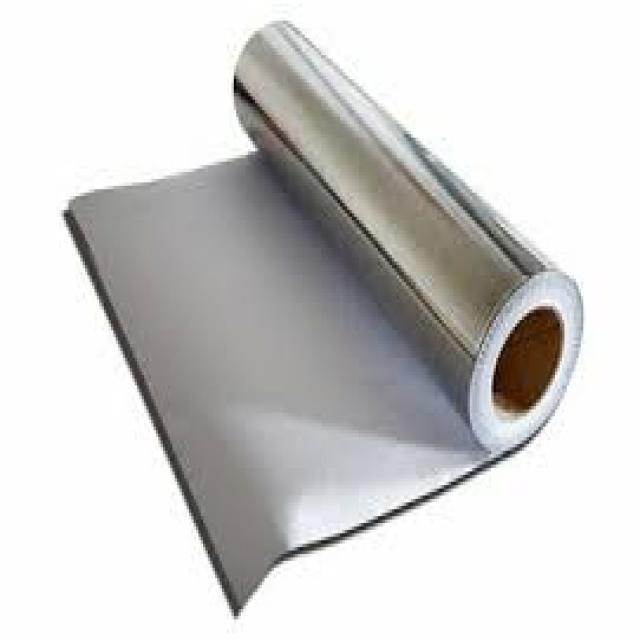metal: (64, 17, 579, 613)
